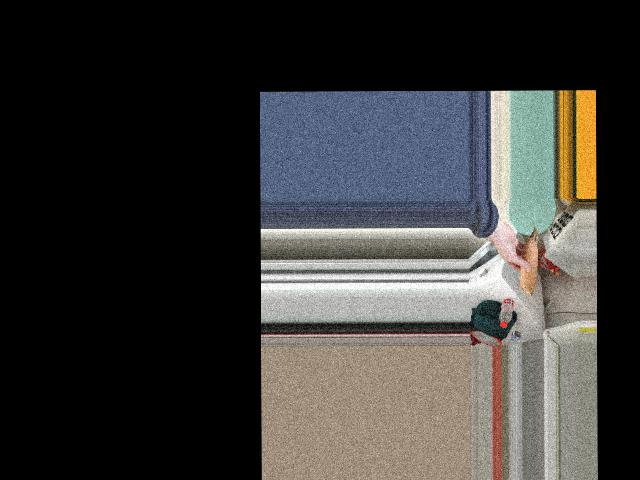sweet_potato: (515, 228, 537, 289)
